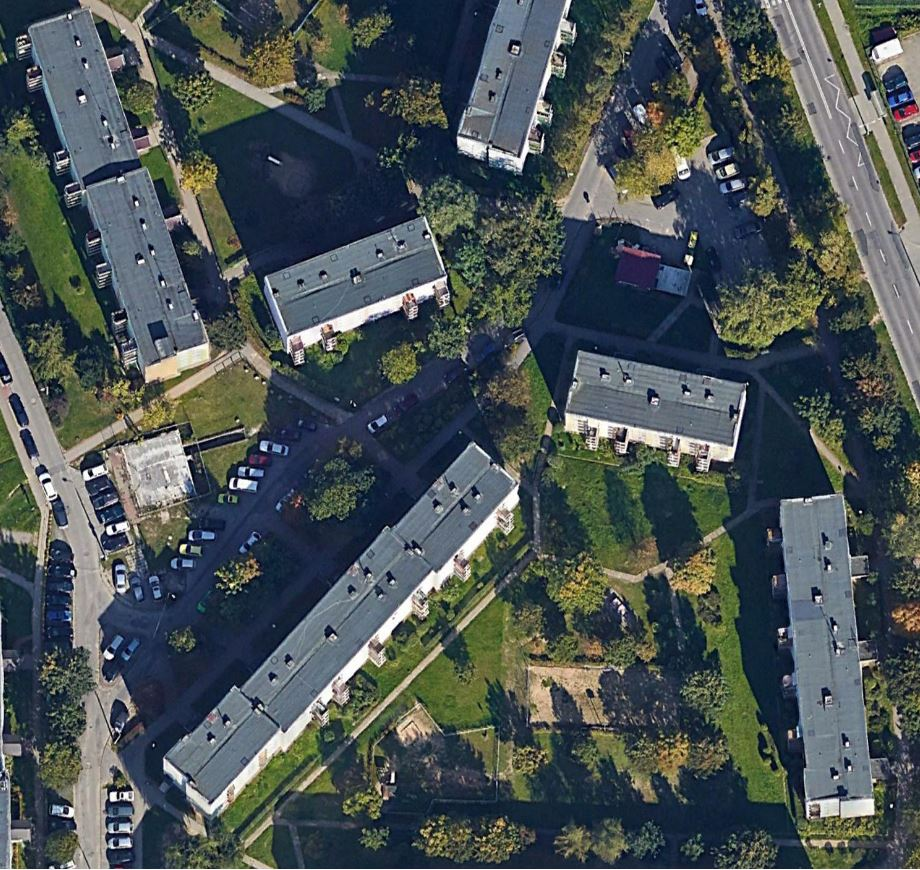block of flats: (154, 435, 528, 818), (7, 6, 219, 390), (761, 485, 902, 827), (255, 208, 462, 378), (555, 338, 747, 479), (448, 1, 585, 182)
